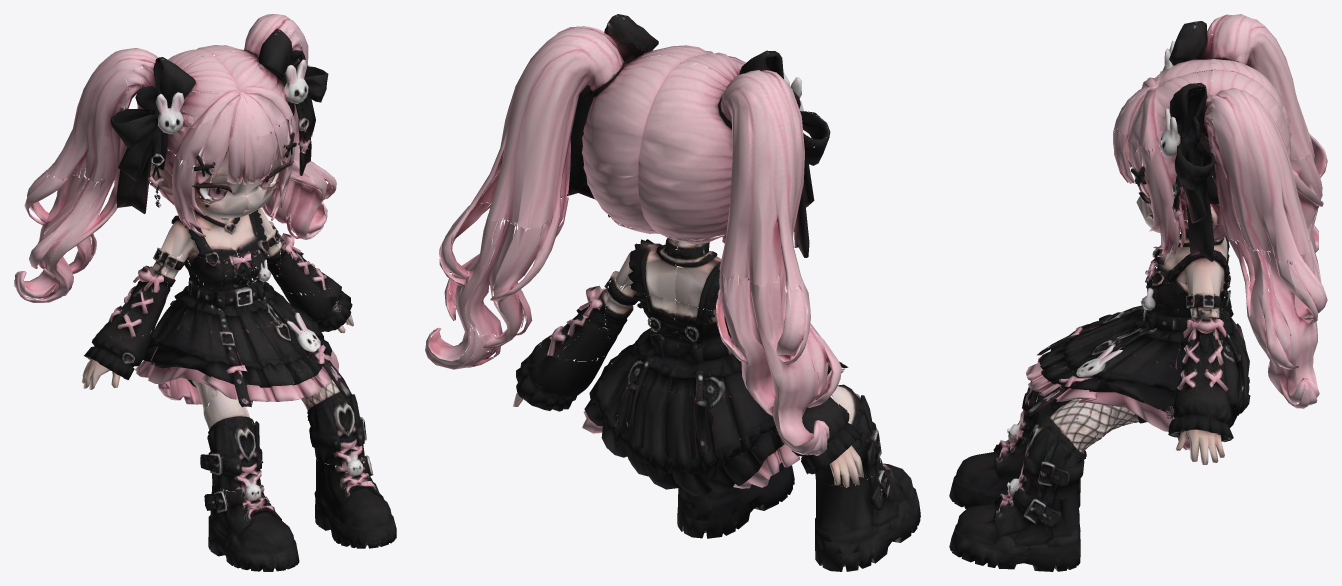
File: studio-visitor-ribbon-v3.glb
The picture shows the model from 3 angles, left to right: view 1: azimuth 30°, elevation 25°; view 2: azimuth 150°, elevation 25°; view 3: azimuth 270°, elevation 25°; orthographic projection. The views are drawn at different scales.
Parts seen in each view (by area): view 1: ribbon_continuous_body; view 2: ribbon_continuous_body; view 3: ribbon_continuous_body.
Part boxes in pixels (box(x1,y1,x2,y2)): ribbon_continuous_body: box(14, 14, 396, 571); ribbon_continuous_body: box(425, 14, 920, 571); ribbon_continuous_body: box(949, 14, 1327, 571).
Size of the model in its own units: 0.58 by 0.7965 by 0.5663.
5 materials, 5 textured.
